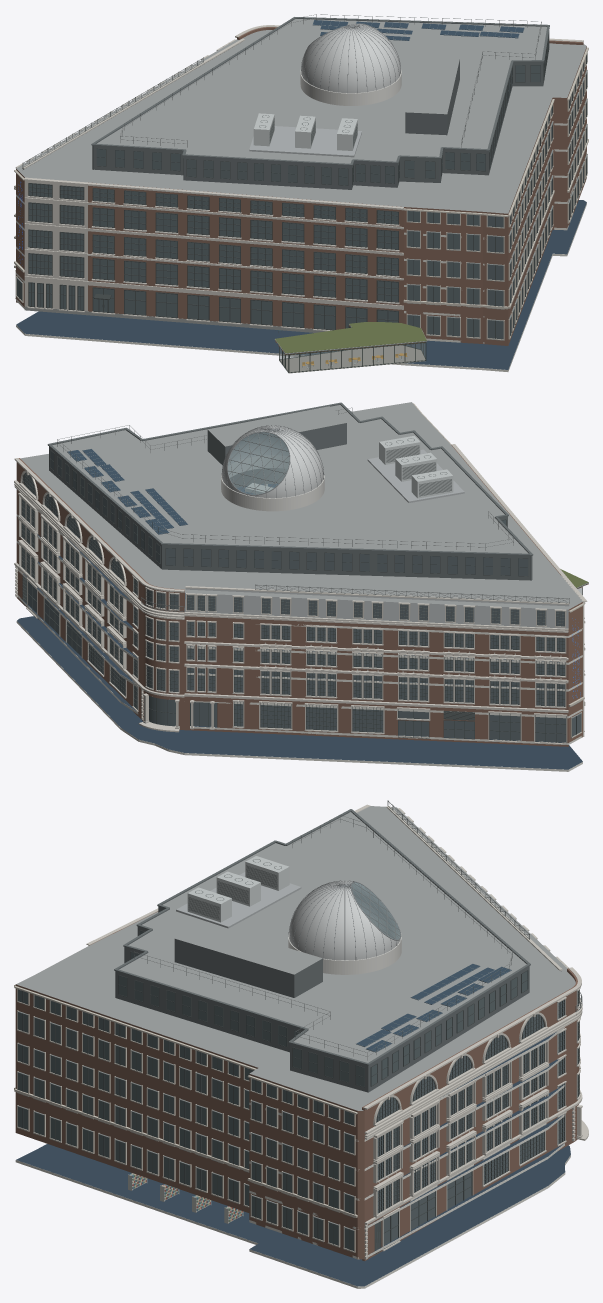
The model's file is lrb-exterior-88c93602ebfc.glb.
3 views of the same model, one above another, from view 1: azimuth 30°, elevation 25°; view 2: azimuth 150°, elevation 25°; view 3: azimuth 270°, elevation 25° (orthographic). The views are drawn at different scales.
Visible parts, largest first — view 1: LRB.001; view 2: LRB.001; view 3: LRB.001.
Boxes of the visible parts, x1=… form: LRB.001: x1=14, y1=14, x2=588, y2=373; LRB.001: x1=14, y1=402, x2=588, y2=771; LRB.001: x1=14, y1=800, x2=588, y2=1288.
Size of the model in its own units: 89.68 by 36.89 by 70.98.
